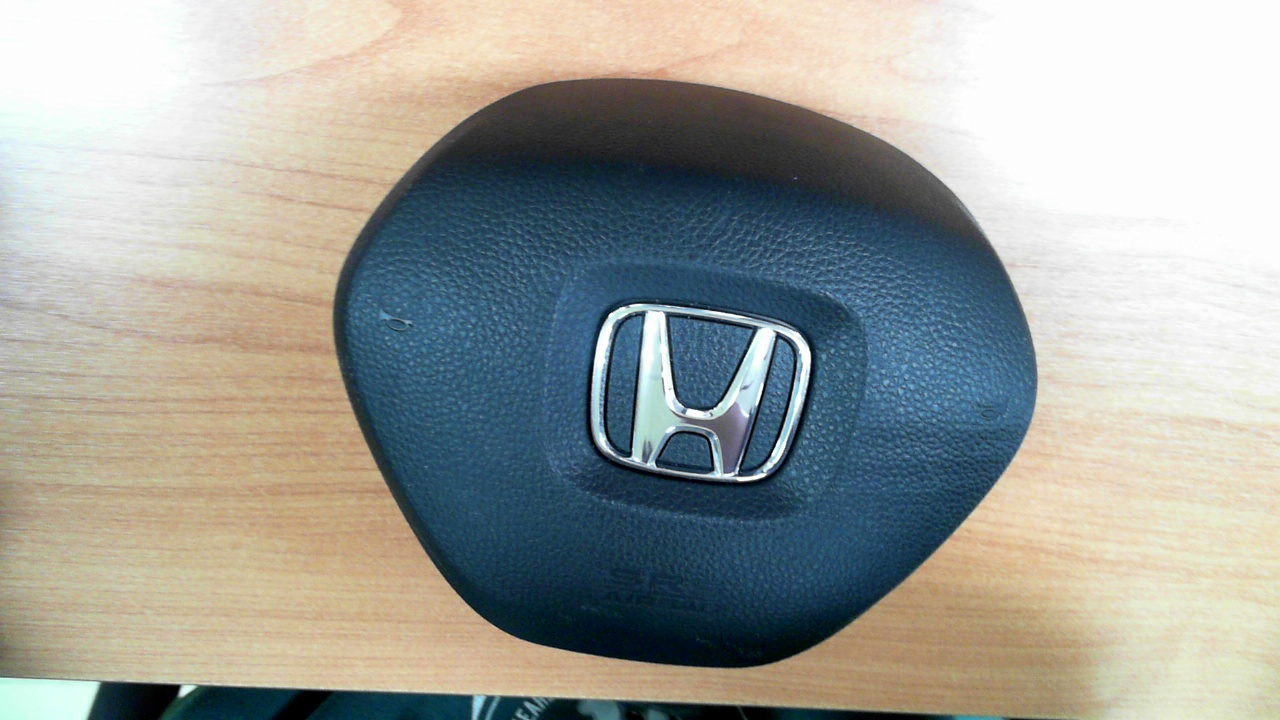Airbag: (333, 76, 1038, 670)
Honda: (589, 302, 812, 483)
